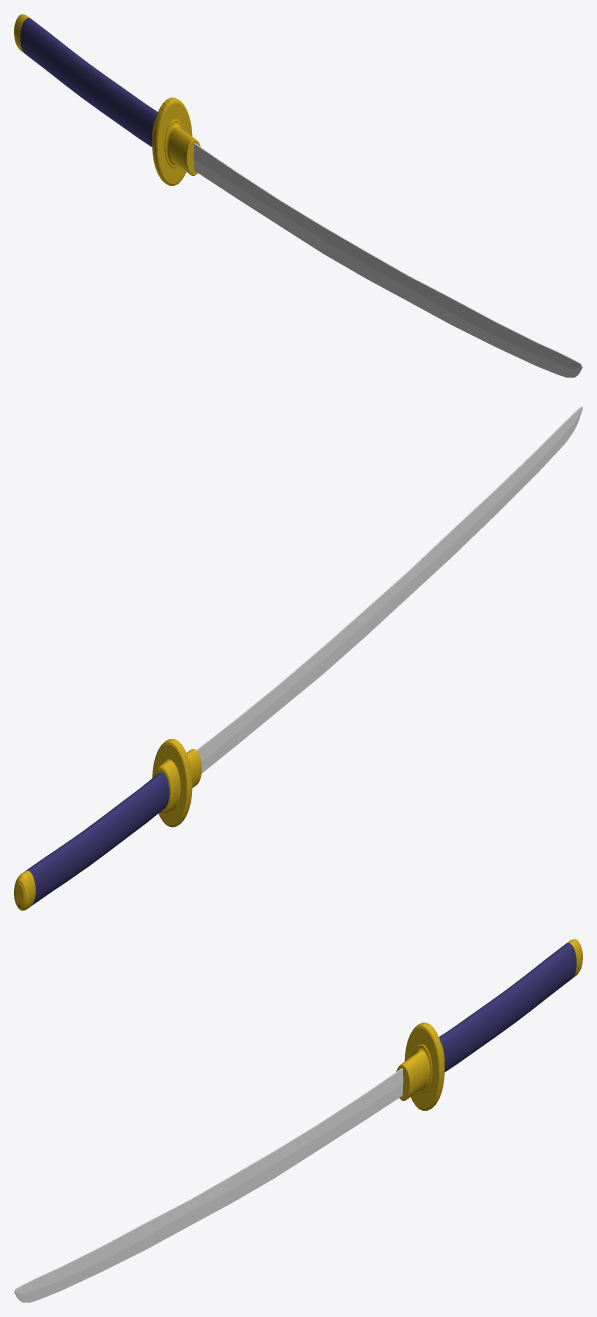
File: Katana.fbx
3 views of the same model, one above another, from view 1: azimuth 30°, elevation 25°; view 2: azimuth 150°, elevation 25°; view 3: azimuth 330°, elevation 25° (orthographic).
Visible parts, largest first — view 1: Katana; view 2: Katana; view 3: Katana.
Part boxes in pixels (<box>): Katana: <box>14,14,582,377</box>; Katana: <box>14,406,582,910</box>; Katana: <box>14,939,582,1302</box>.
Bounding box in the file's own units: 3.63 × 11.42 × 96.8.
